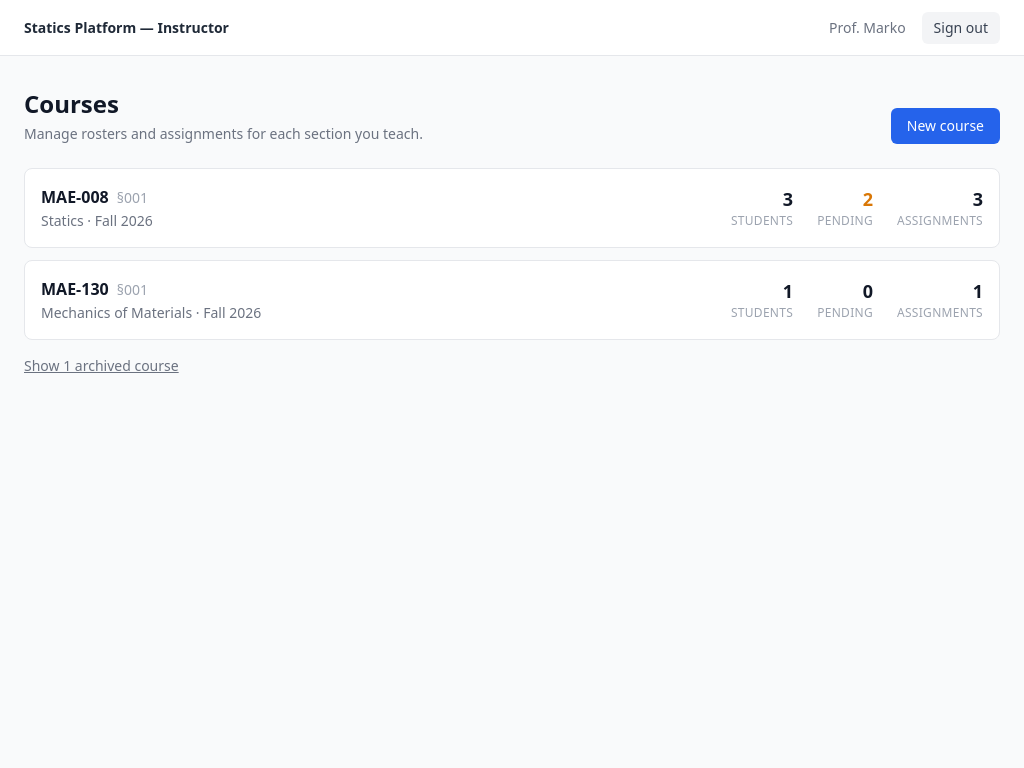
Scenario: courses page › will not submit without a code and term
This screenshot has width=1024, height=768.
Expected: the heading "MAE-008§001" is shown, 41,185 -> 148,209
Click the button "New course" at (945, 126), box 891,108 -> 1000,144
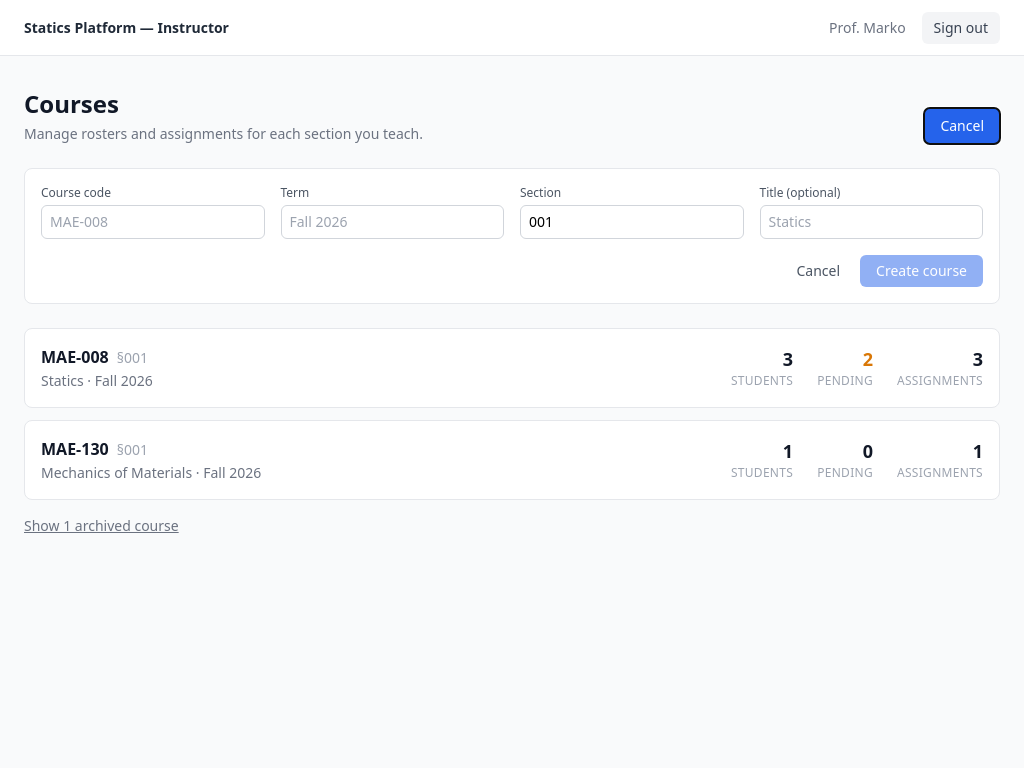
Result: the button "Create course" is disabled at 860,255 -> 983,287
Type "MAE-999" into the field labelled "Course code" at (153, 222), box 41,205 -> 264,239
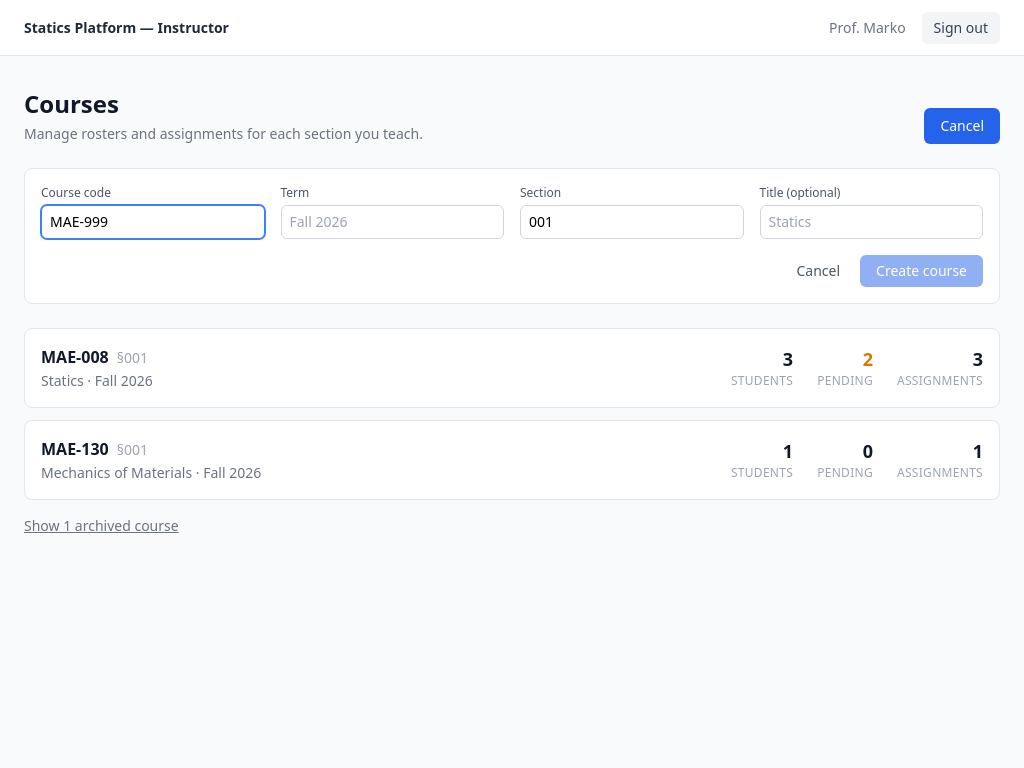
Result: the button "Create course" is disabled at 860,255 -> 983,287
Type "Fall 2027" into the field labelled "Term" at (392, 222), box 280,205 -> 504,239
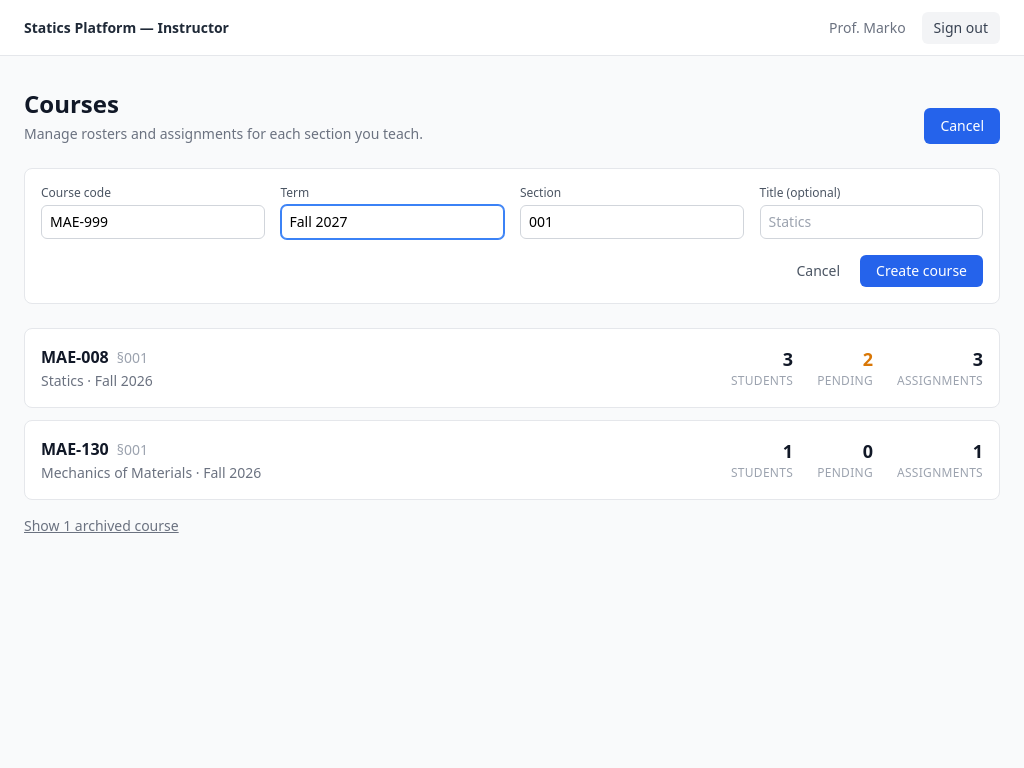
Result: the button "Create course" is enabled at 860,255 -> 983,287
